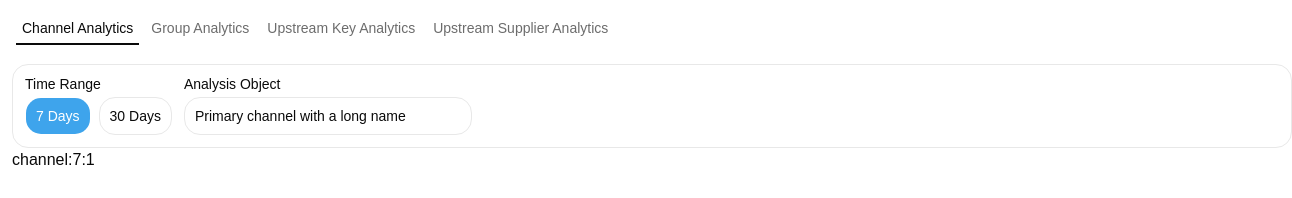
it: overview filters › an object absent from bounded options is applied by ID only after Enter
Replace the text in the dropdown labelled "Analysis Object" with "101" at (314, 116), box [185,100,444,132]
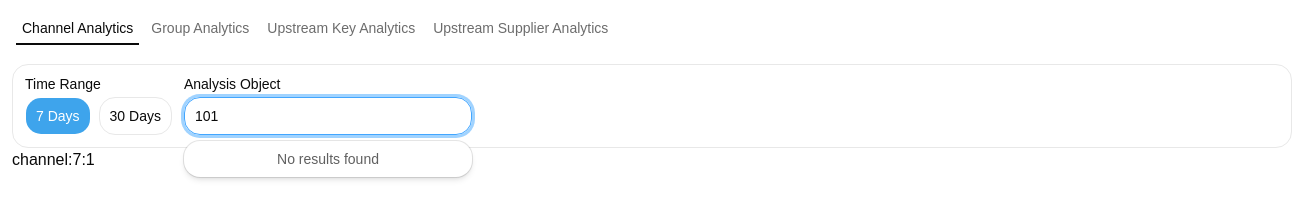
Check: the text named "Applied filters" reads "channel:7:1", box [12,151,95,168]
Press Enter
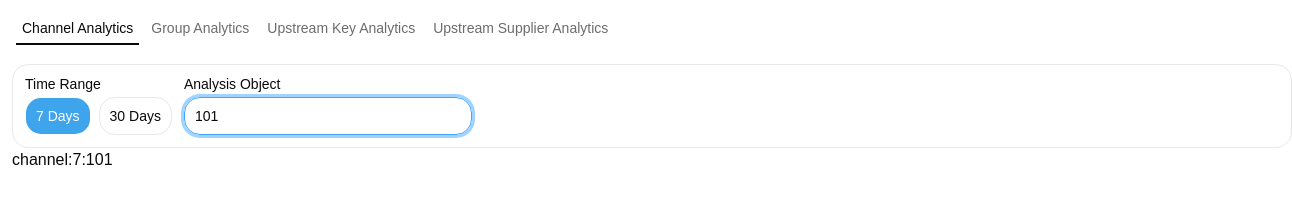
Check: the text named "Applied filters" reads "channel:7:101", box [12,151,112,168]
